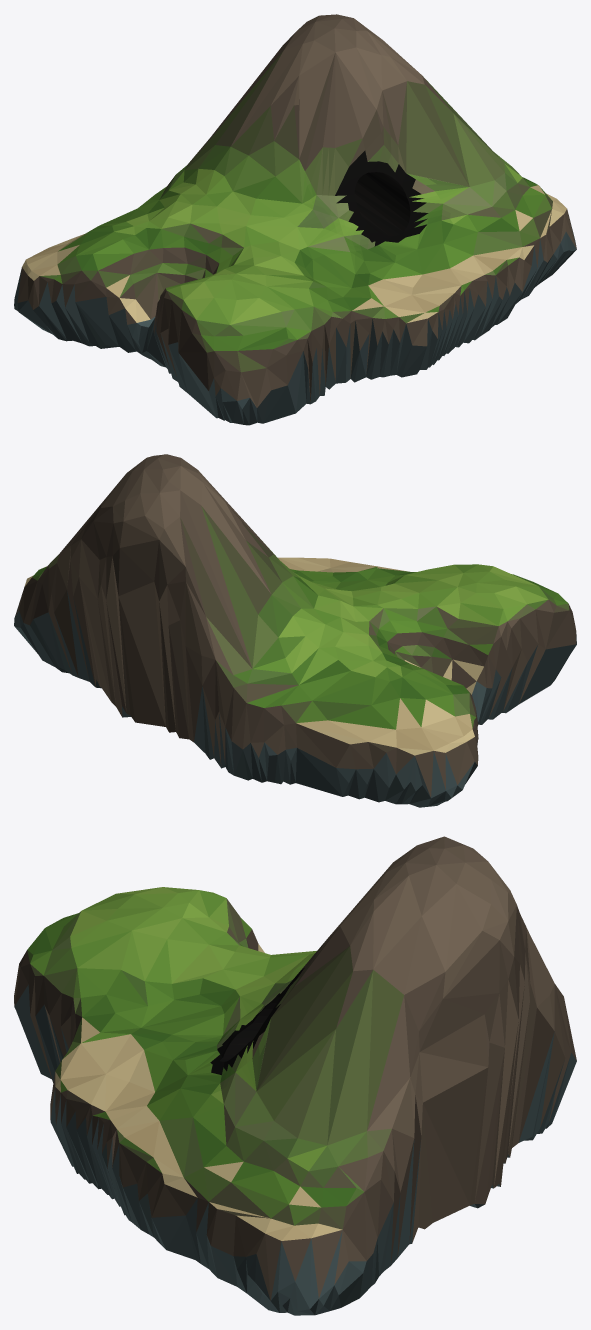
File: low_poly_mountain_cave_island.glb
3 views of the same model, one above another, from view 1: azimuth 30°, elevation 25°; view 2: azimuth 150°, elevation 25°; view 3: azimuth 270°, elevation 25° (orthographic). The views are drawn at different scales.
Visible parts, largest first — view 1: Island; view 2: Island; view 3: Island.
Part boxes in pixels (x1,y1,x2,y2): Island: [14, 14, 576, 425]; Island: [14, 454, 576, 807]; Island: [14, 836, 576, 1315].
Size of the model in its own units: 15.47 by 7.64 by 10.87.
